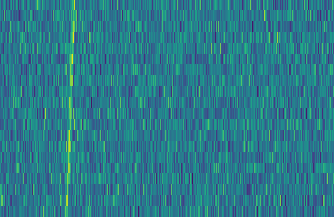signal: (60, 0, 76, 217)
